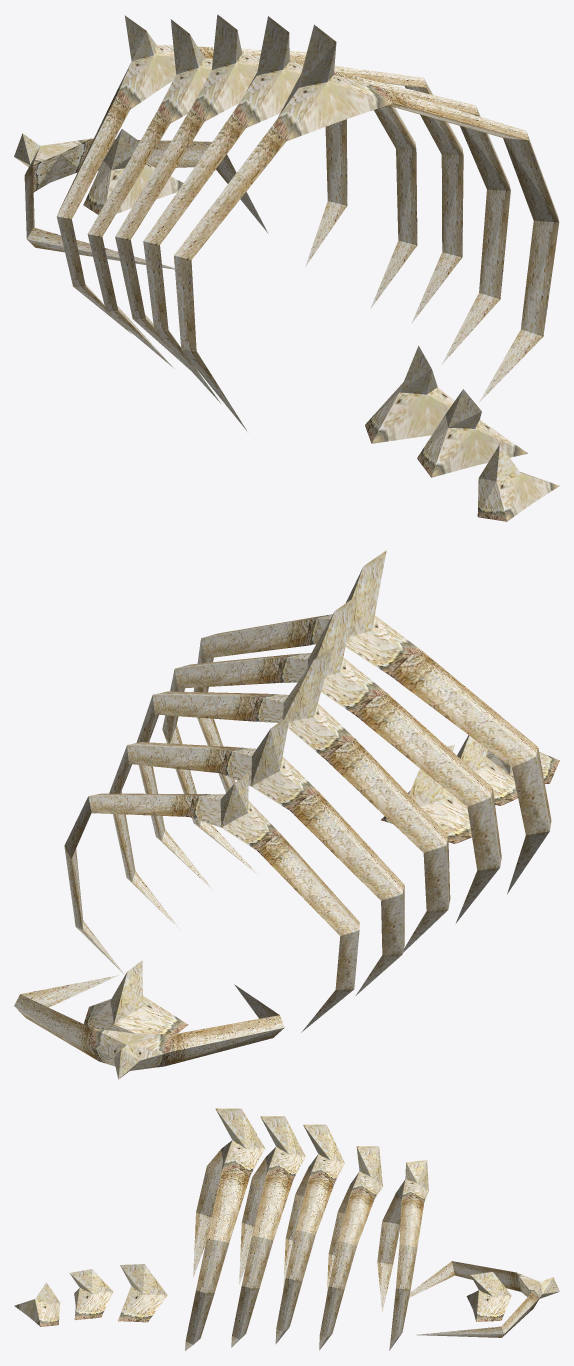
Rendered from poi_tato_skel_krayt_ribcage_l1.fbx.
3 renders of one model, top to bottom at view 1: azimuth 30°, elevation 25°; view 2: azimuth 150°, elevation 25°; view 3: azimuth 270°, elevation 25°, orthographic. The views are drawn at different scales.
Visible parts, largest first — view 1: mesh_node; view 2: mesh_node; view 3: mesh_node.
Boxes of the visible parts, box(x1,y1,x2,y2) form: mesh_node: box(14, 14, 559, 521); mesh_node: box(14, 550, 559, 1079); mesh_node: box(14, 1108, 559, 1350).
Bounding box in the file's own units: 4.52 × 4.44 × 9.96.
Materials: 2 (2 with a texture image).
